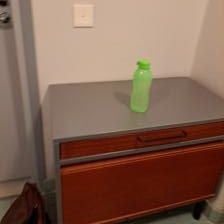bottle: (128, 57, 154, 113)
